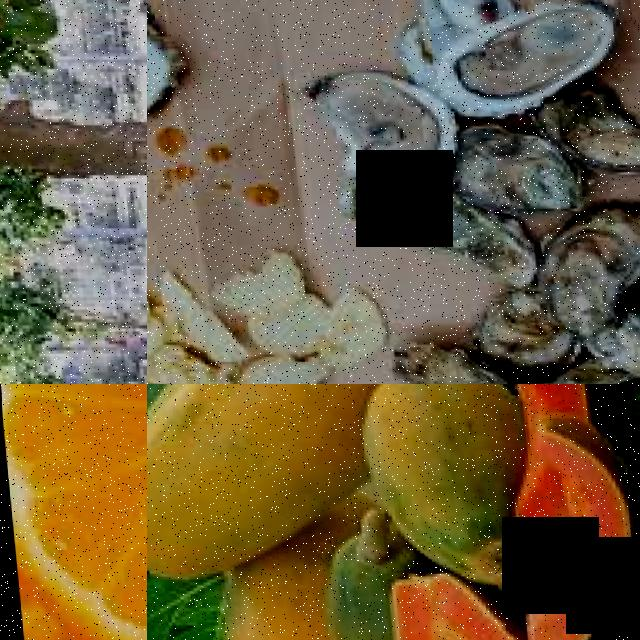orange: (1, 417, 147, 640)
oysters: (304, 60, 456, 190), (441, 0, 616, 90), (529, 192, 640, 329), (443, 118, 578, 217), (521, 77, 640, 167), (381, 331, 542, 384)
pawpaw: (147, 384, 352, 579), (350, 384, 525, 547), (513, 420, 640, 640), (386, 571, 526, 640)
